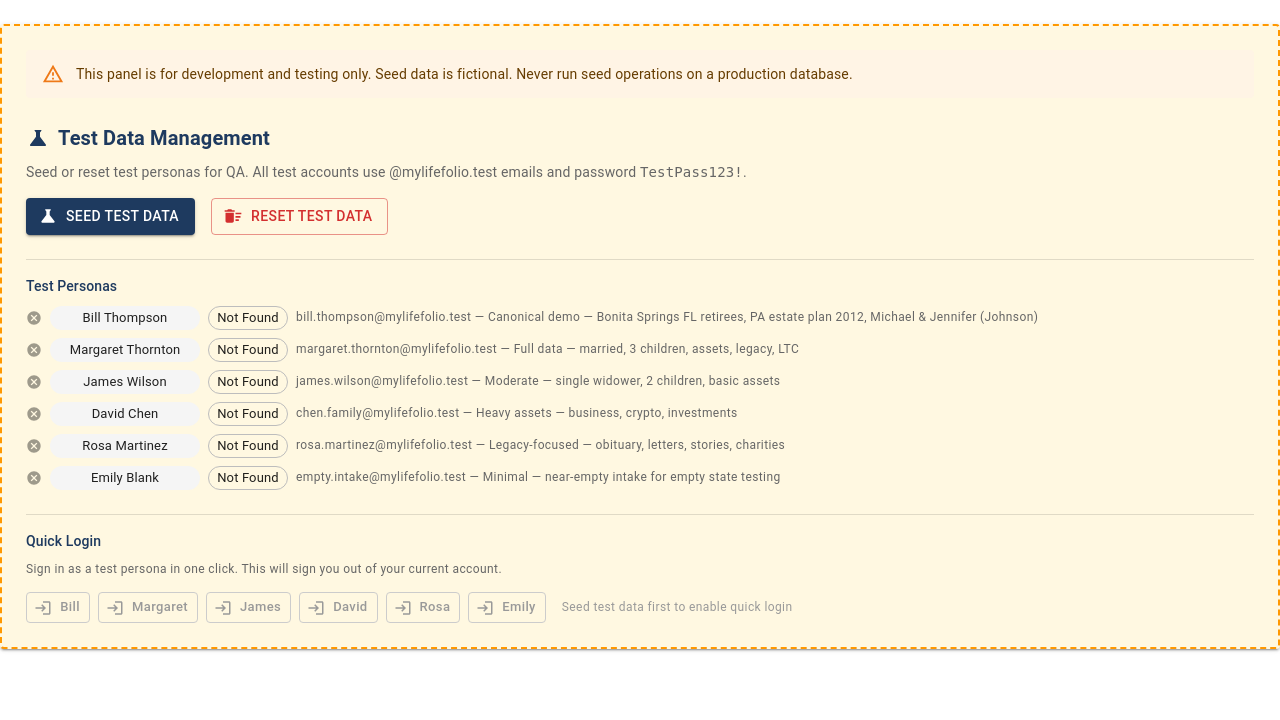
Test: AdminTestPanel › Actions › failure shows red error message
The width and height of the screenshot is (1280, 720).
Click the button "Seed Test Data". click: click(111, 216)
box: [26, 198, 195, 234]
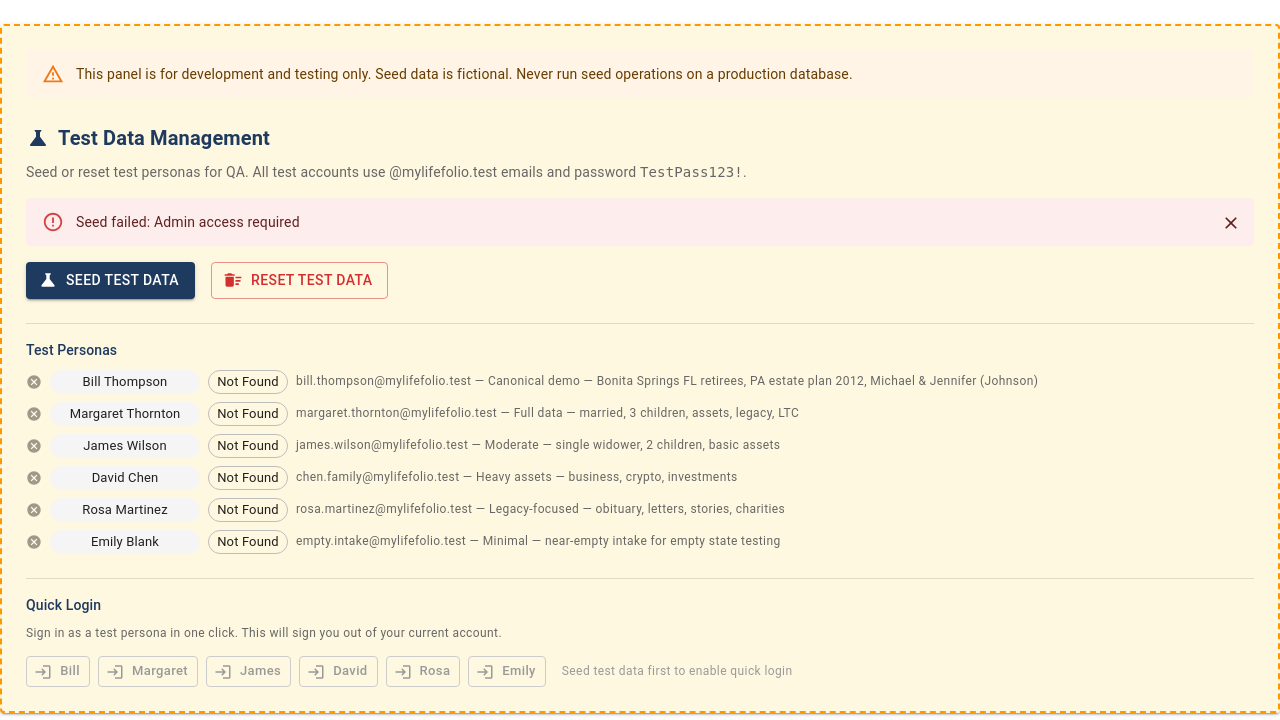
Now the text "Seed failed: Admin access required" is shown, box [76, 214, 300, 230]
